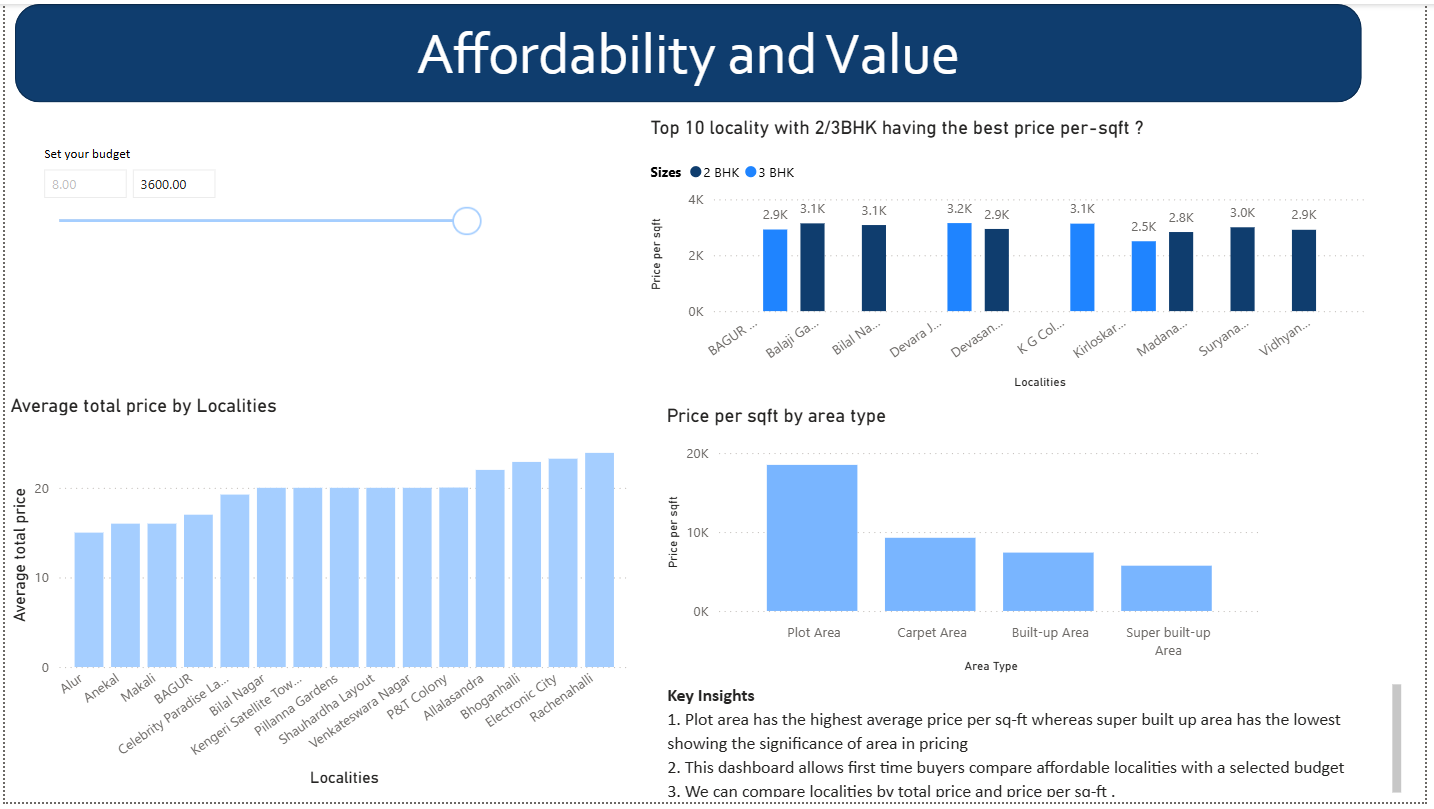

The dashboard page shown, as its layout file describes it:
{"tool":"powerbi","page":{"name":"Affordibility and value","canvas":[1280,720],"ordinal":1},"visuals":[{"type":"shape","box":[9,0,1214.2,88.7],"z":0},{"type":"clusteredColumnChart","title":"Top 10 locality with 2/3BHK having the best price per-sqft ?","fields":{"Series":["house benagluru_house_date_cleaneddataset (2).Sizes"],"Category":["house benagluru_house_date_cleaneddataset (2).location"],"Y":["house benagluru_house_date_cleaneddataset (2).Price_per_sqft_display"]},"box":[567.8,101.5,655,250.3],"z":1000},{"type":"slicer","title":"Which locality has the highest number of listings (40-80 lakh)","fields":{"Values":["house benagluru_house_date_cleaneddataset (2).price"]},"box":[22.9,123,414.7,118.7],"z":2000},{"type":"lineClusteredColumnComboChart","title":"Price per sqft by area type","fields":{"Category":["house benagluru_house_date_cleaneddataset (2).area_type"],"Y":["house benagluru_house_date_cleaneddataset (2).Price_per_sqft_display"]},"box":[592.1,360.4,547.8,247.4],"z":2002},{"type":"columnChart","fields":{"Category":["house benagluru_house_date_cleaneddataset (2).location"],"Y":["Avg(house benagluru_house_date_cleaneddataset (2).price)"]},"box":[0,351.8,567.8,359],"z":2003},{"type":"textbox","box":[567.8,607.8,672.2,111.6],"z":2004}]}

Visuals, with their boxes in screenshot pixels (x1, y1, x2, y2), scaled from the page's 1280x720 canvas onto the 1434x809 screenshot:
shape: detection(10, 0, 1370, 100)
"Top 10 locality with 2/3BHK having the best price per-sqft ?" clusteredColumnChart: detection(636, 114, 1370, 395)
"Which locality has the highest number of listings (40-80 lakh)" slicer: detection(26, 138, 490, 272)
"Price per sqft by area type" lineClusteredColumnComboChart: detection(663, 405, 1277, 683)
columnChart - house benagluru_house_date_cleaneddataset (2).location x Avg(house benagluru_house_date_cleaneddataset (2).price): detection(0, 395, 636, 799)
textbox: detection(636, 683, 1389, 808)
